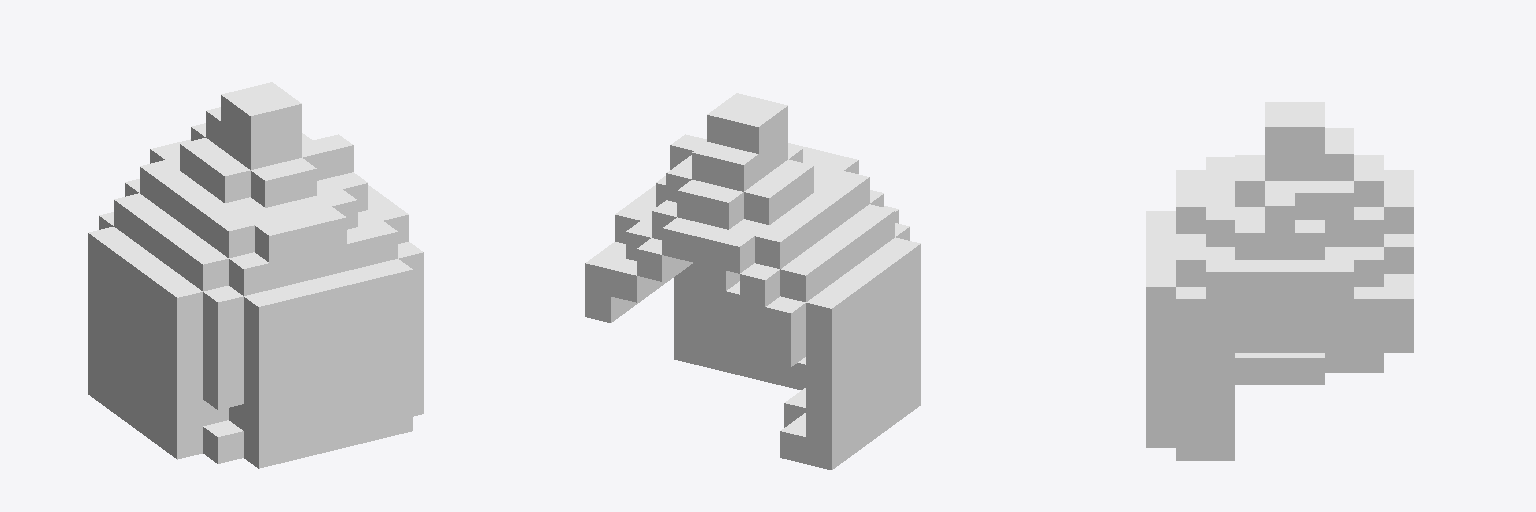
Rendered from Liquid.obj.
The picture shows the model from 3 angles: view 1: azimuth 30°, elevation 25°; view 2: azimuth 150°, elevation 25°; view 3: azimuth 270°, elevation 25°; orthographic projection.
Parts seen in each view (by area): view 1: object 1; view 2: object 1; view 3: object 1.
Boxes of the visible parts, x1=… form: object 1: x1=88, y1=82, x2=423, y2=468; object 1: x1=585, y1=93, x2=920, y2=469; object 1: x1=1146, y1=102, x2=1413, y2=460.
Size of the model in its own units: 0.9 by 1.1 by 0.9.